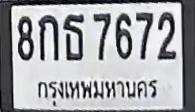2: (157, 12, 176, 60)
6: (115, 13, 132, 59)
7: (136, 12, 154, 60), (92, 13, 110, 60)
8: (17, 15, 34, 61)
A01: (38, 14, 59, 61)
A24: (63, 14, 84, 61)
BKK: (31, 74, 162, 106)
